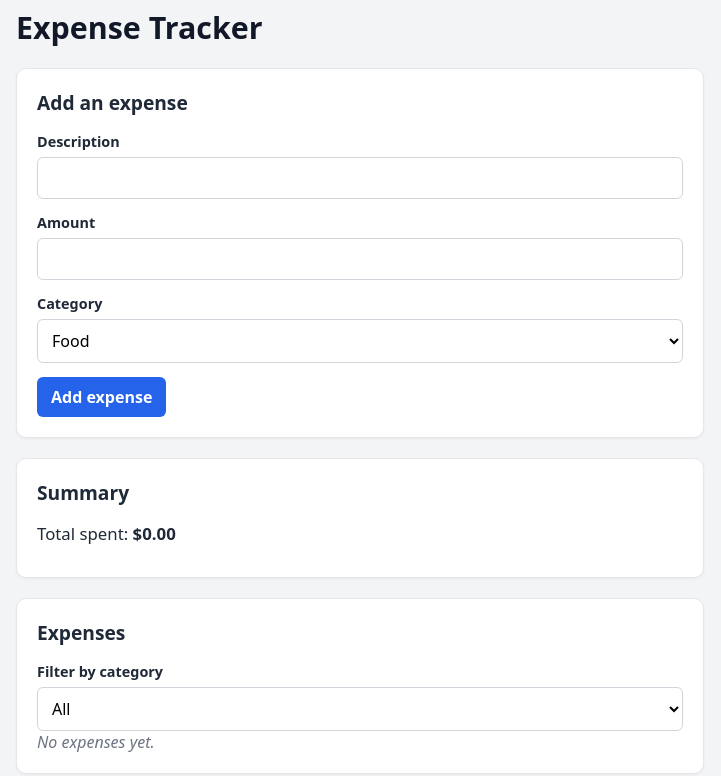
Test: Expense Tracker UI › adds an expense and shows the correct total
In the field labelled "Description": (360, 178) [37,157,683,199], type "Groceries"
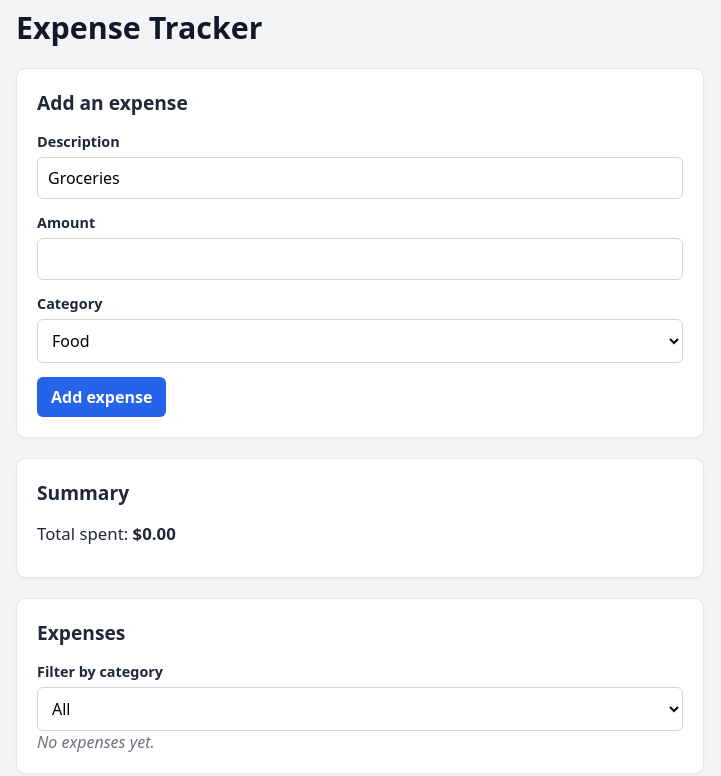
In the number field labelled "Amount": (360, 259) [37,238,683,280], type "120.50"
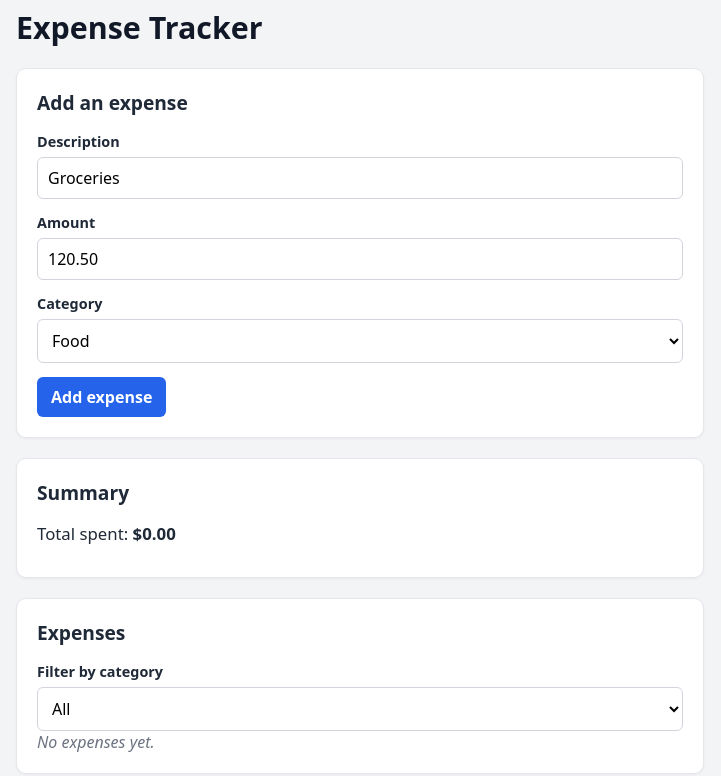
Select "Food" in the dropdown labelled "Category": (360, 341) [37,319,683,363]
Click the button "Add expense": (102, 397) [37,377,166,417]
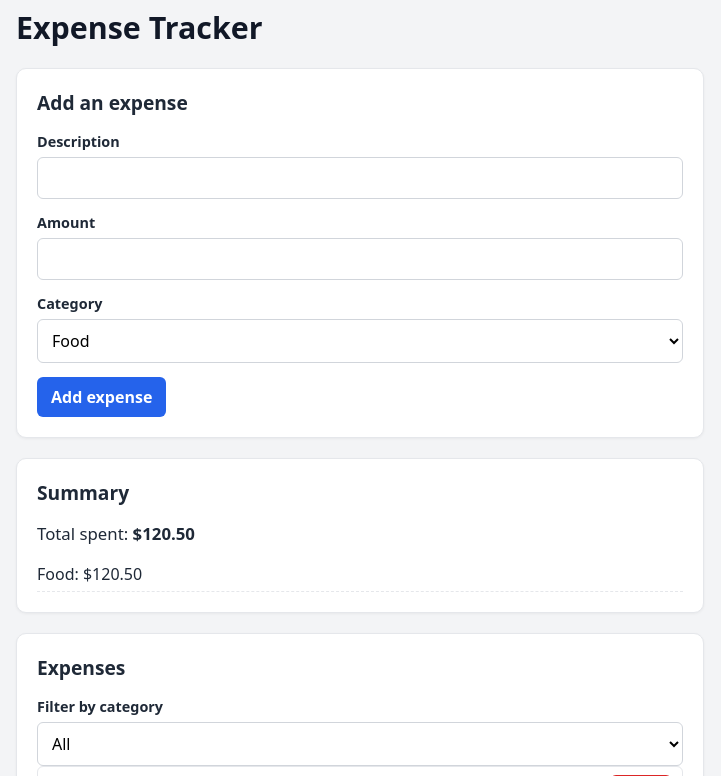
Result: the text "Total spent: $120.50" is shown at [37,522,195,545]
Result: the list item "Food: $120.50" is shown at [37,557,683,592]
Result: the field labelled "Description" is empty at [37,157,683,199]
